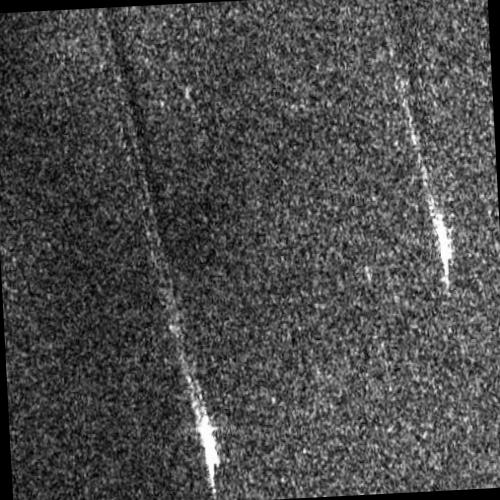ship: (193, 402, 220, 486), (431, 206, 453, 279)
